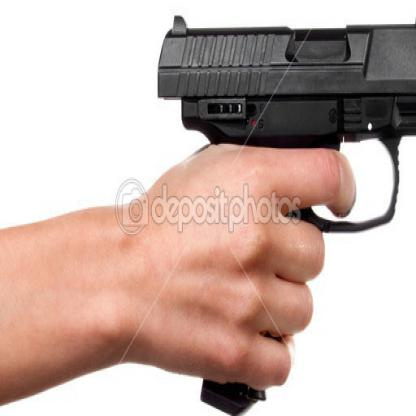gun: (150, 0, 415, 415)
